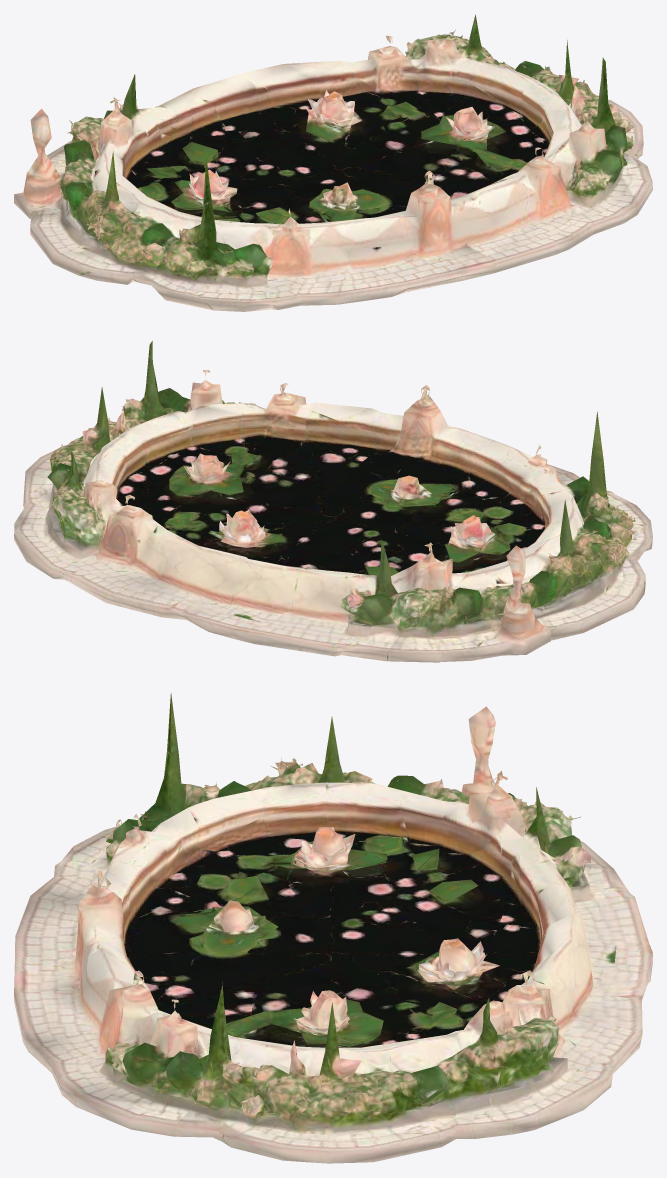
The model's file is reflection-pond.glb.
The picture shows the model from 3 angles, top to bottom: view 1: azimuth 30°, elevation 25°; view 2: azimuth 150°, elevation 25°; view 3: azimuth 270°, elevation 25°; orthographic projection. The views are drawn at different scales.
Parts seen in each view (by area): view 1: Mesh_0.001; view 2: Mesh_0.001; view 3: Mesh_0.001.
Boxes of the visible parts, left/top/right/bottom form: Mesh_0.001: left=14, top=14, right=652, bottom=311; Mesh_0.001: left=14, top=341, right=652, bottom=662; Mesh_0.001: left=14, top=693, right=652, bottom=1163.
Size of the model in its own units: 2.82 by 0.5997 by 2.08.
Materials: 1 (1 with a texture image).
